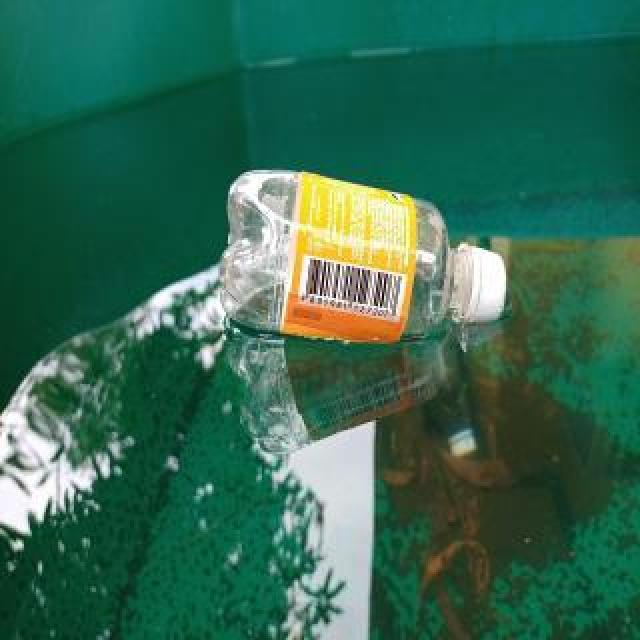bottle: (219, 163, 509, 349)
